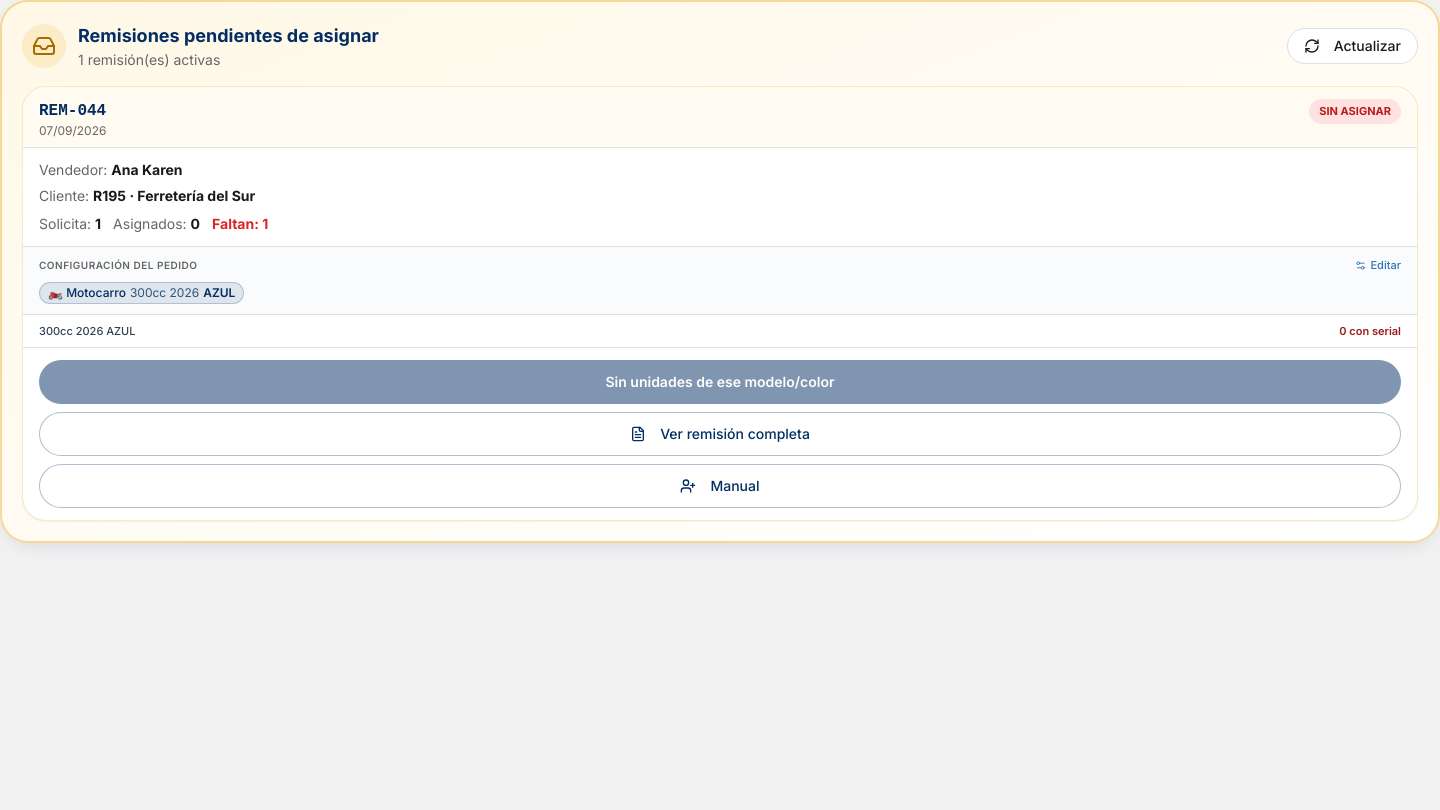
Motocarro ya armado · cilindraje y color los declara fábrica › los dos campos sólo salen cuando la unidad es «ya armada»
Step 1. Click the button "Manual" → [720, 486], box [39, 464, 1401, 508]
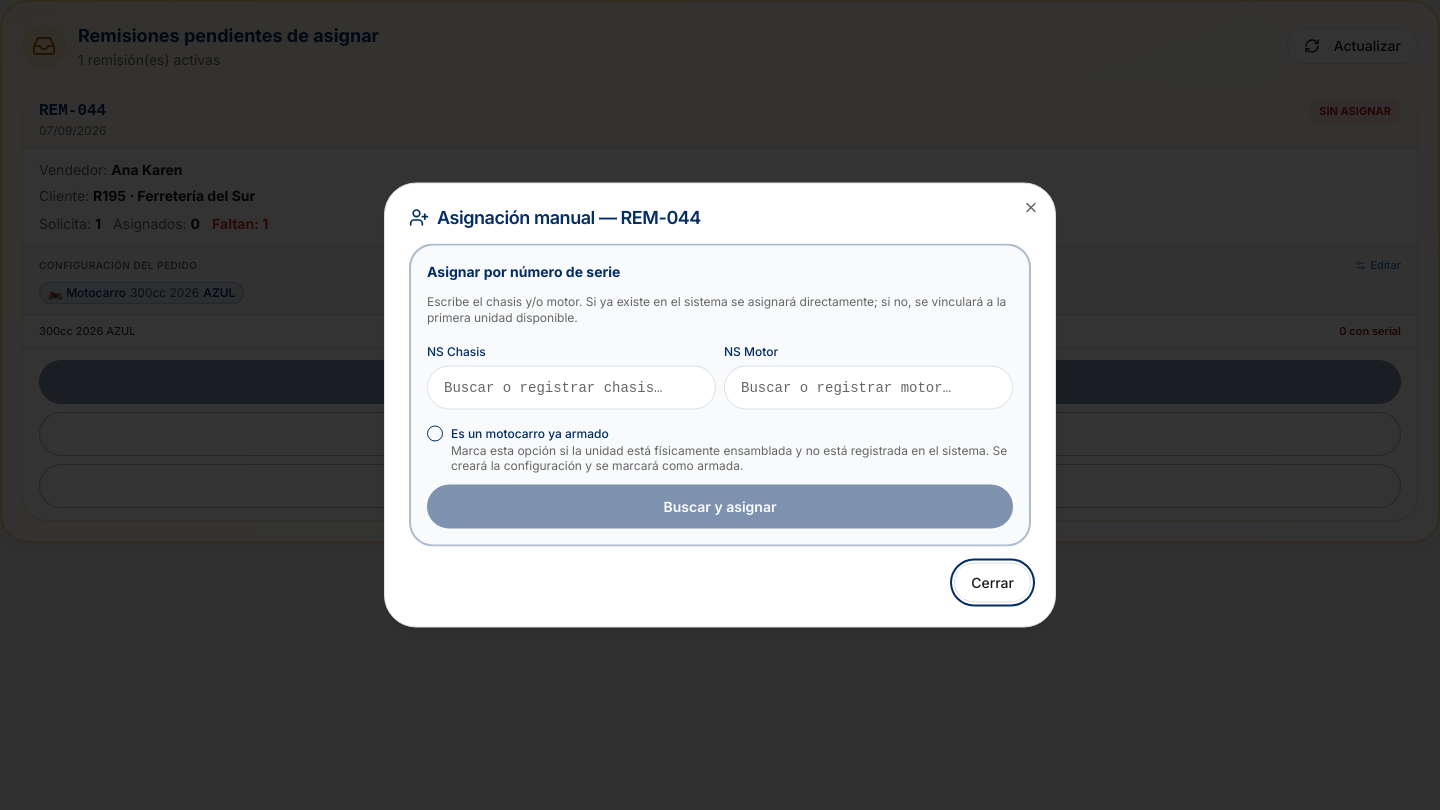
Expected: the text "Cilindraje / modelo" is not shown
Expected: the text "Es un motocarro ya armado" is shown, [451, 426, 609, 440]
Step 2. Click the checkbox with id "yaArmado" → [435, 434], box [427, 426, 443, 442]
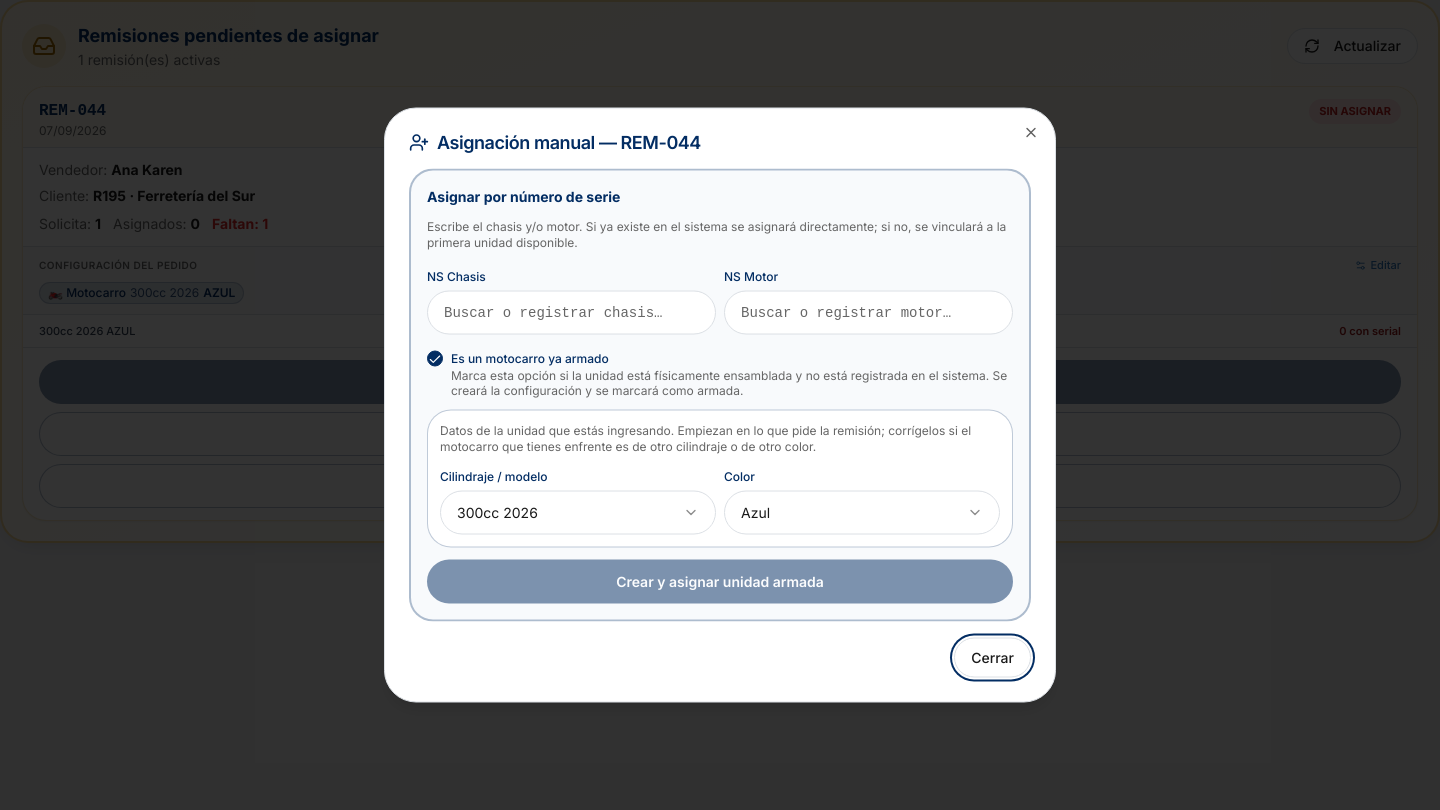
Expected: the text "Cilindraje / modelo" is shown, [440, 468, 548, 484]
Expected: the text "corrígelos si el motocarro que tienes enfrente" is shown, [440, 422, 971, 454]
